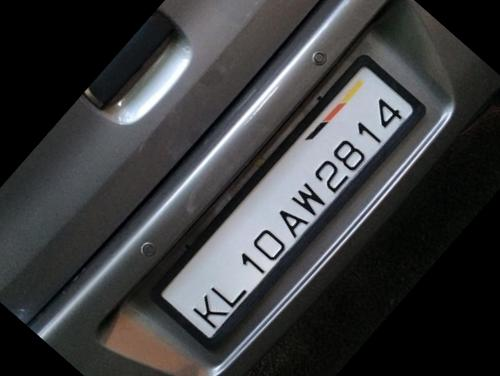plate: (155, 44, 441, 352)
